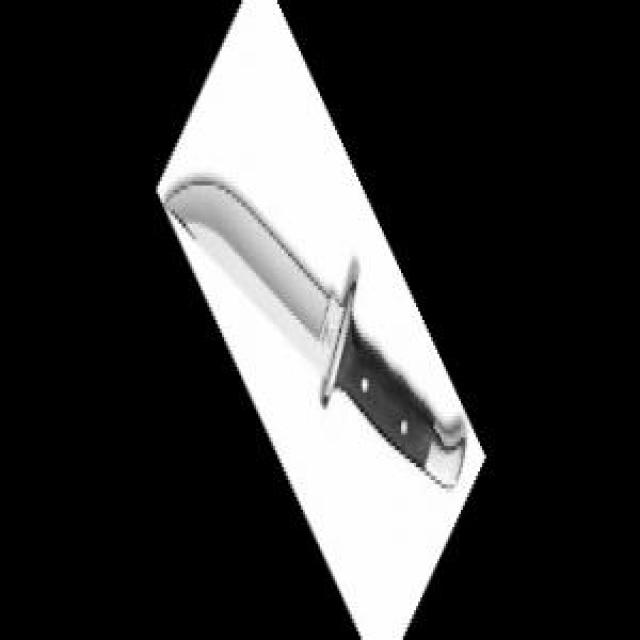knife: (164, 179, 470, 504)
